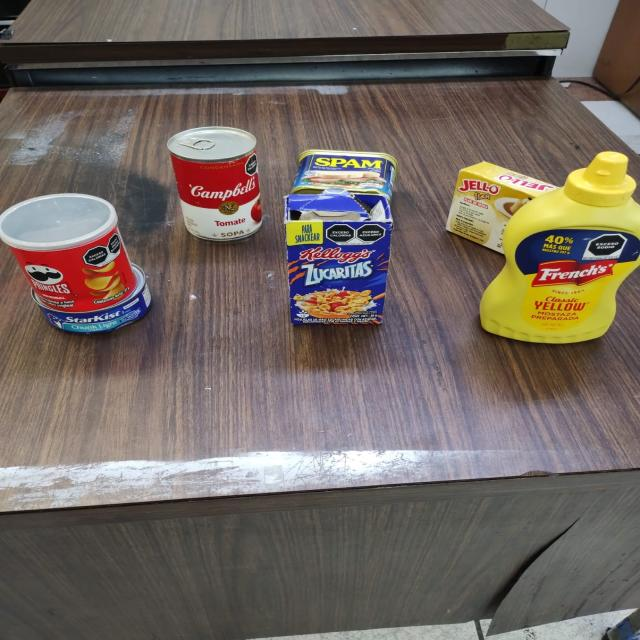can of cream: (168, 127, 266, 241)
can of tuna: (31, 263, 152, 333)
cereal: (282, 190, 394, 324)
chips: (0, 194, 137, 316)
jelly: (444, 161, 558, 255)
mustard: (478, 152, 636, 344)
spam: (286, 150, 400, 202)
